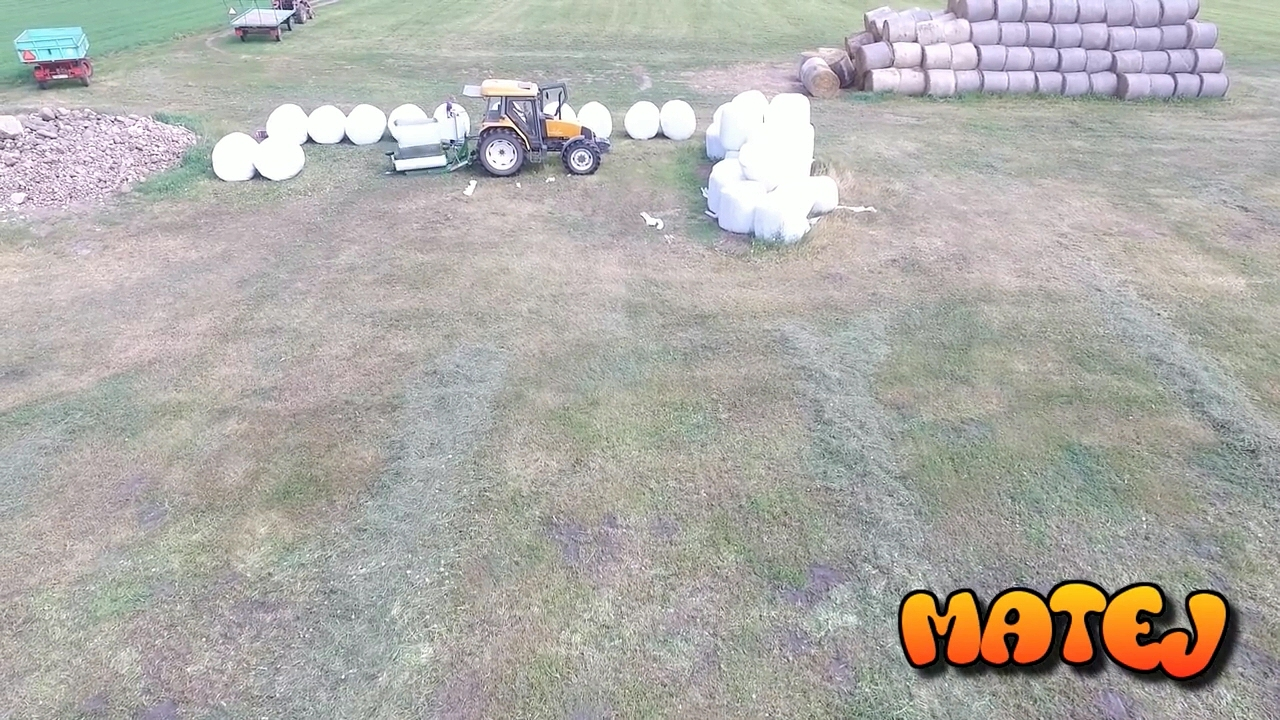traktor: (456, 76, 608, 176), (280, 1, 317, 32)
